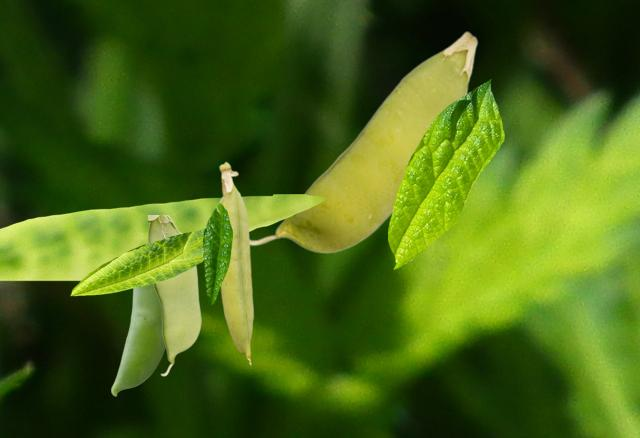pea: (250, 31, 477, 252), (148, 215, 200, 375), (218, 161, 253, 364), (111, 285, 164, 395)
